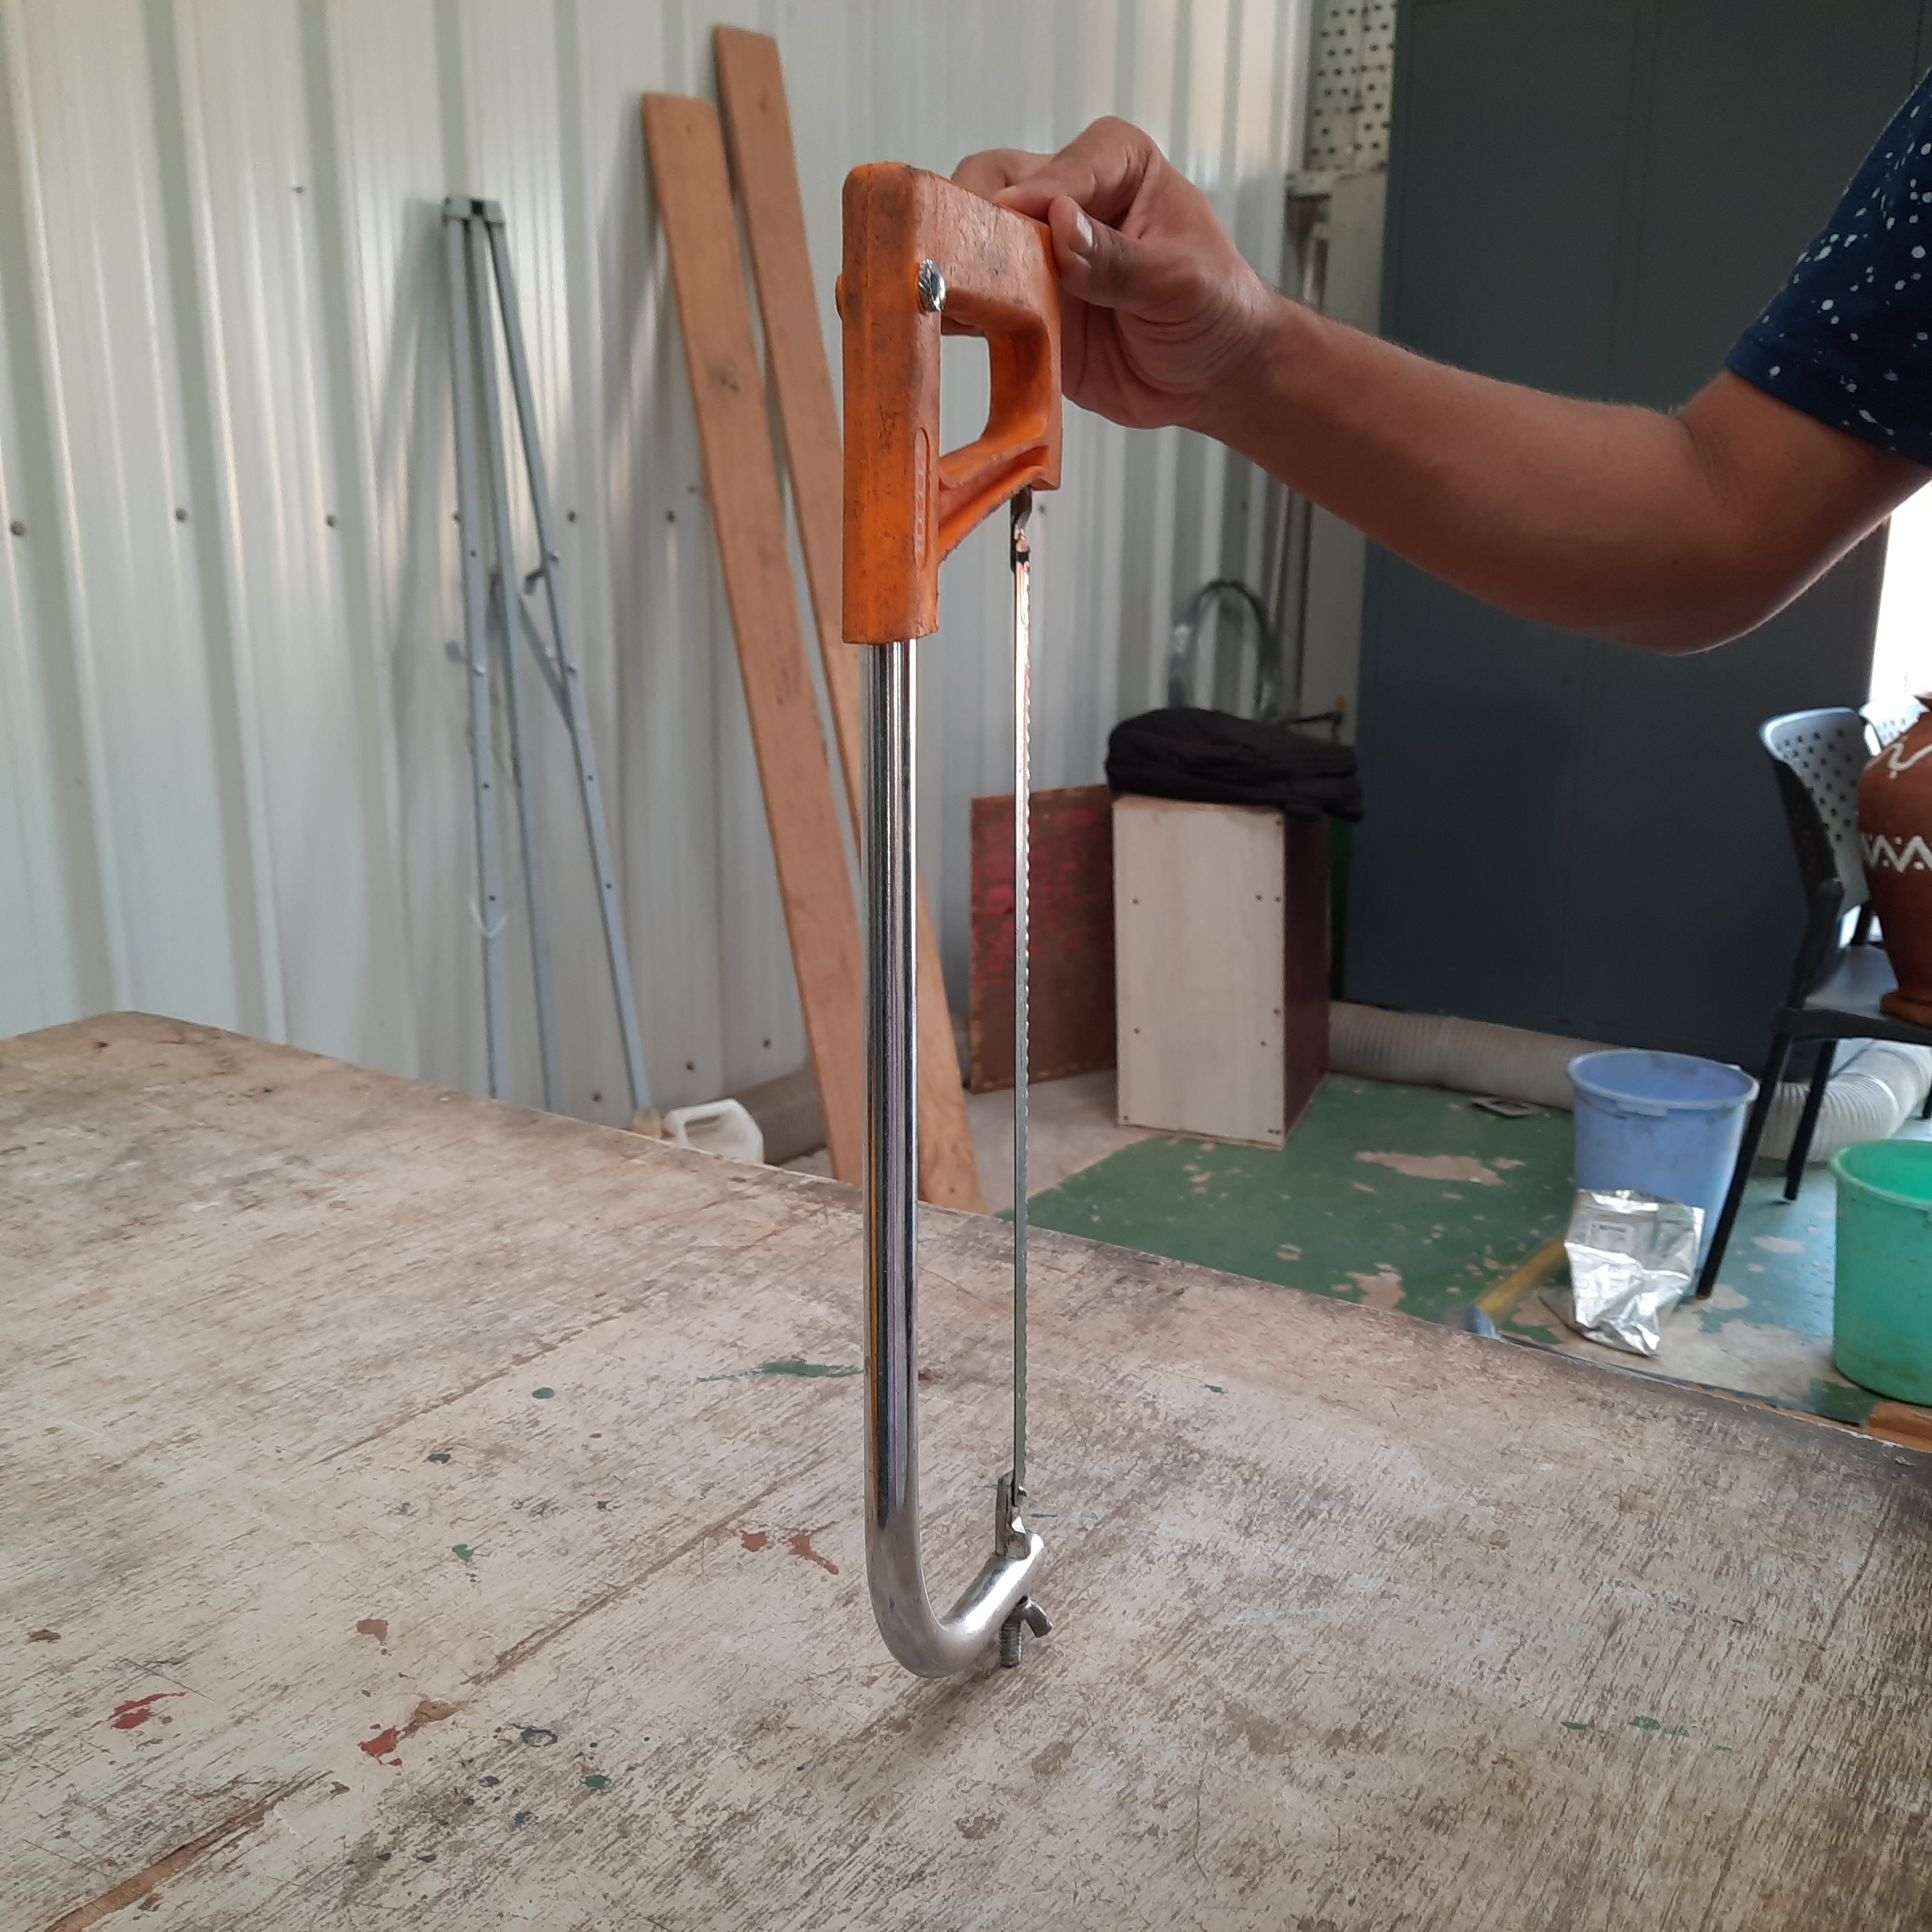Hexaframe: (809, 143, 1095, 1679)
